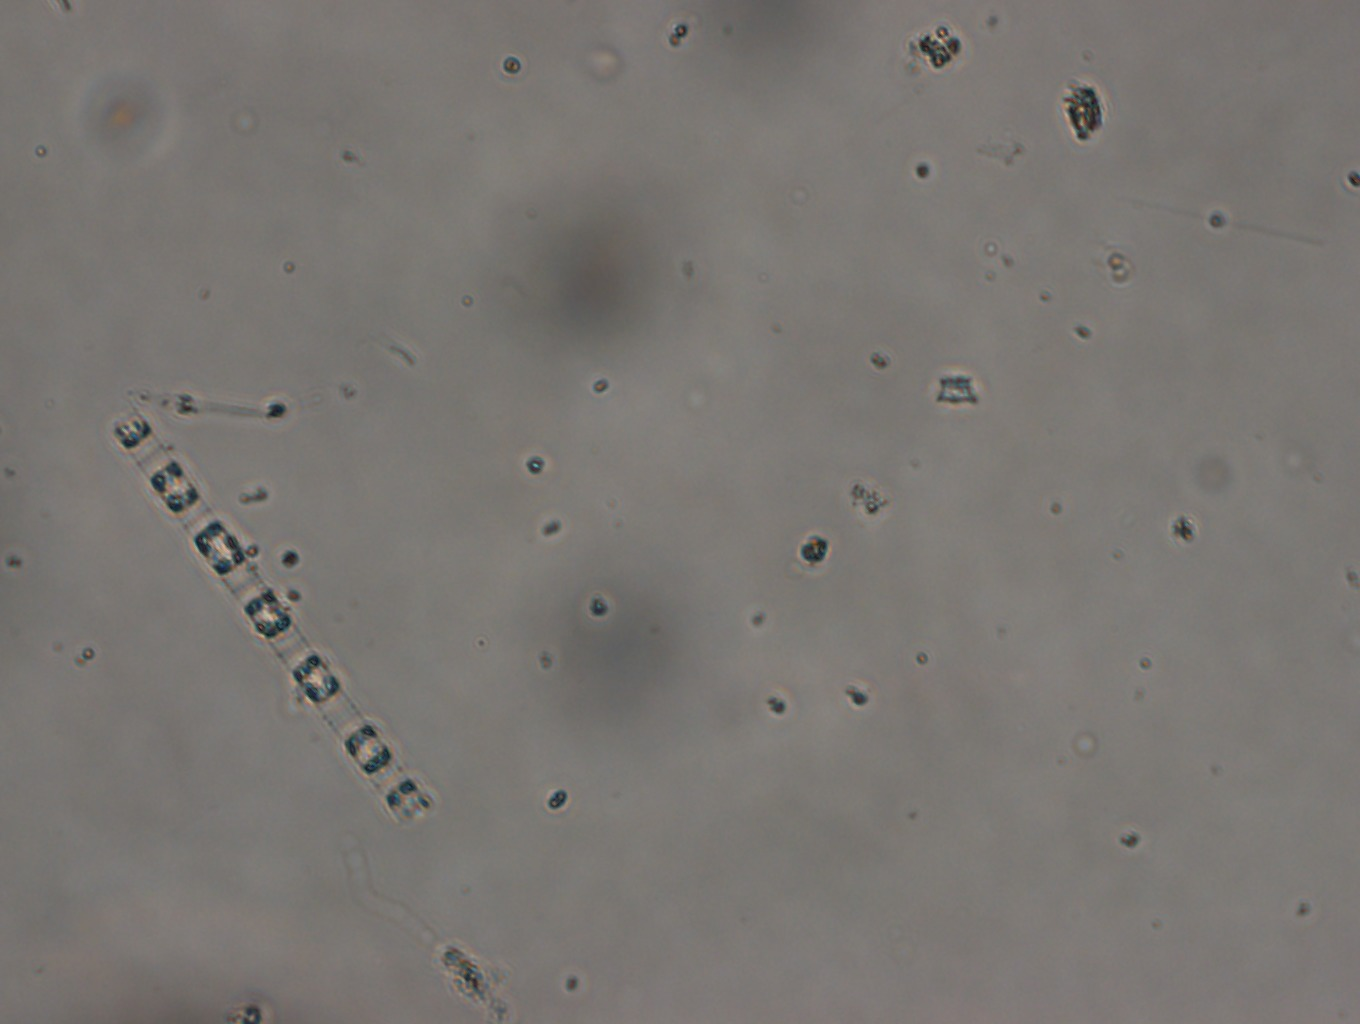skeletonema: (109, 402, 436, 829)
